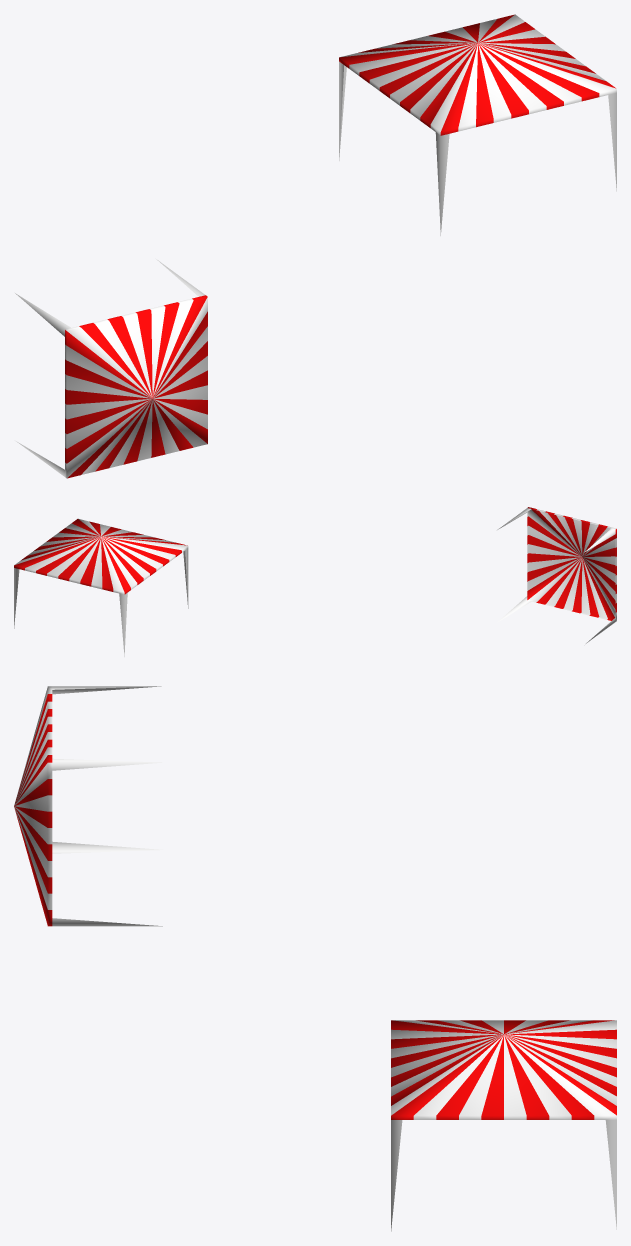
The picture shows the model from 3 angles, top to bottom: view 1: azimuth 30°, elevation 25°; view 2: azimuth 150°, elevation 25°; view 3: azimuth 270°, elevation 25°; orthographic projection. The views are drawn at different scales.
Parts seen in each view (by area): view 1: Party_tent (×2), ID17 (×2), ID325 (×2), ID51 (×2), ID317 (×2), ID309 (×2), ID301 (×2), ID293 (×2), ID285 (×2), ID269 (×2), ID277 (×2), ID35 (+19 smaller); view 2: ID17 (×2), Party_tent (×2), ID43 (×2), ID35, ID25, ID59, ID133, ID83, ID141, ID117, ID91, ID109 (+28 smaller); view 3: ID43 (×2), ID35, ID197, ID149, ID75, ID157, ID181, ID125, ID189, ID165, ID173, ID17 (+1 smaller).
Part boxes in pixels (box(x1,y1,x2,y2)): Party_tent (×2): box(16, 44, 477, 478); ID17 (×2): box(15, 43, 472, 397); ID325 (×2): box(65, 43, 476, 397); ID51 (×2): box(65, 43, 475, 397); ID317 (×2): box(65, 43, 476, 398); ID309 (×2): box(65, 44, 474, 398); ID301 (×2): box(65, 43, 476, 404); ID293 (×2): box(65, 44, 475, 419); ID285 (×2): box(65, 43, 477, 433); ID269 (×2): box(65, 45, 476, 463); ID277 (×2): box(65, 44, 476, 448); ID35: box(480, 43, 616, 191); ID17 (×2): box(101, 526, 616, 656); Party_tent (×2): box(103, 536, 616, 643); ID43 (×2): box(14, 508, 580, 628); ID35: box(497, 558, 580, 622); ID25: box(14, 537, 98, 570); ID59: box(25, 537, 99, 572); ID133: box(91, 537, 102, 589); ID83: box(36, 537, 99, 575); ID141: box(101, 538, 113, 591); ID117: box(80, 537, 100, 586); ID91: box(47, 537, 100, 578); ID109: box(69, 537, 100, 583); ID43 (×2): box(14, 758, 616, 1229); ID35: box(391, 1036, 501, 1231); ID197: box(391, 1035, 502, 1119); ID149: box(505, 1035, 594, 1119); ID75: box(413, 1036, 502, 1119); ID157: box(504, 1035, 549, 1119); ID181: box(459, 1035, 503, 1119); ID125: box(504, 1035, 571, 1119); ID189: box(436, 1035, 503, 1119); ID165: box(504, 1035, 526, 1119); ID173: box(481, 1035, 503, 1119); ID17: box(16, 686, 161, 797).
Size of the model in its own units: 20 by 4 by 13.35.
